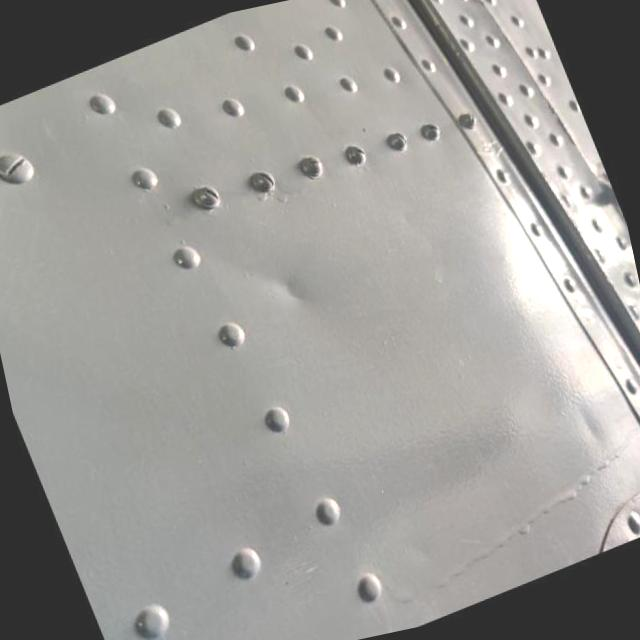dent: (254, 262, 320, 328)
